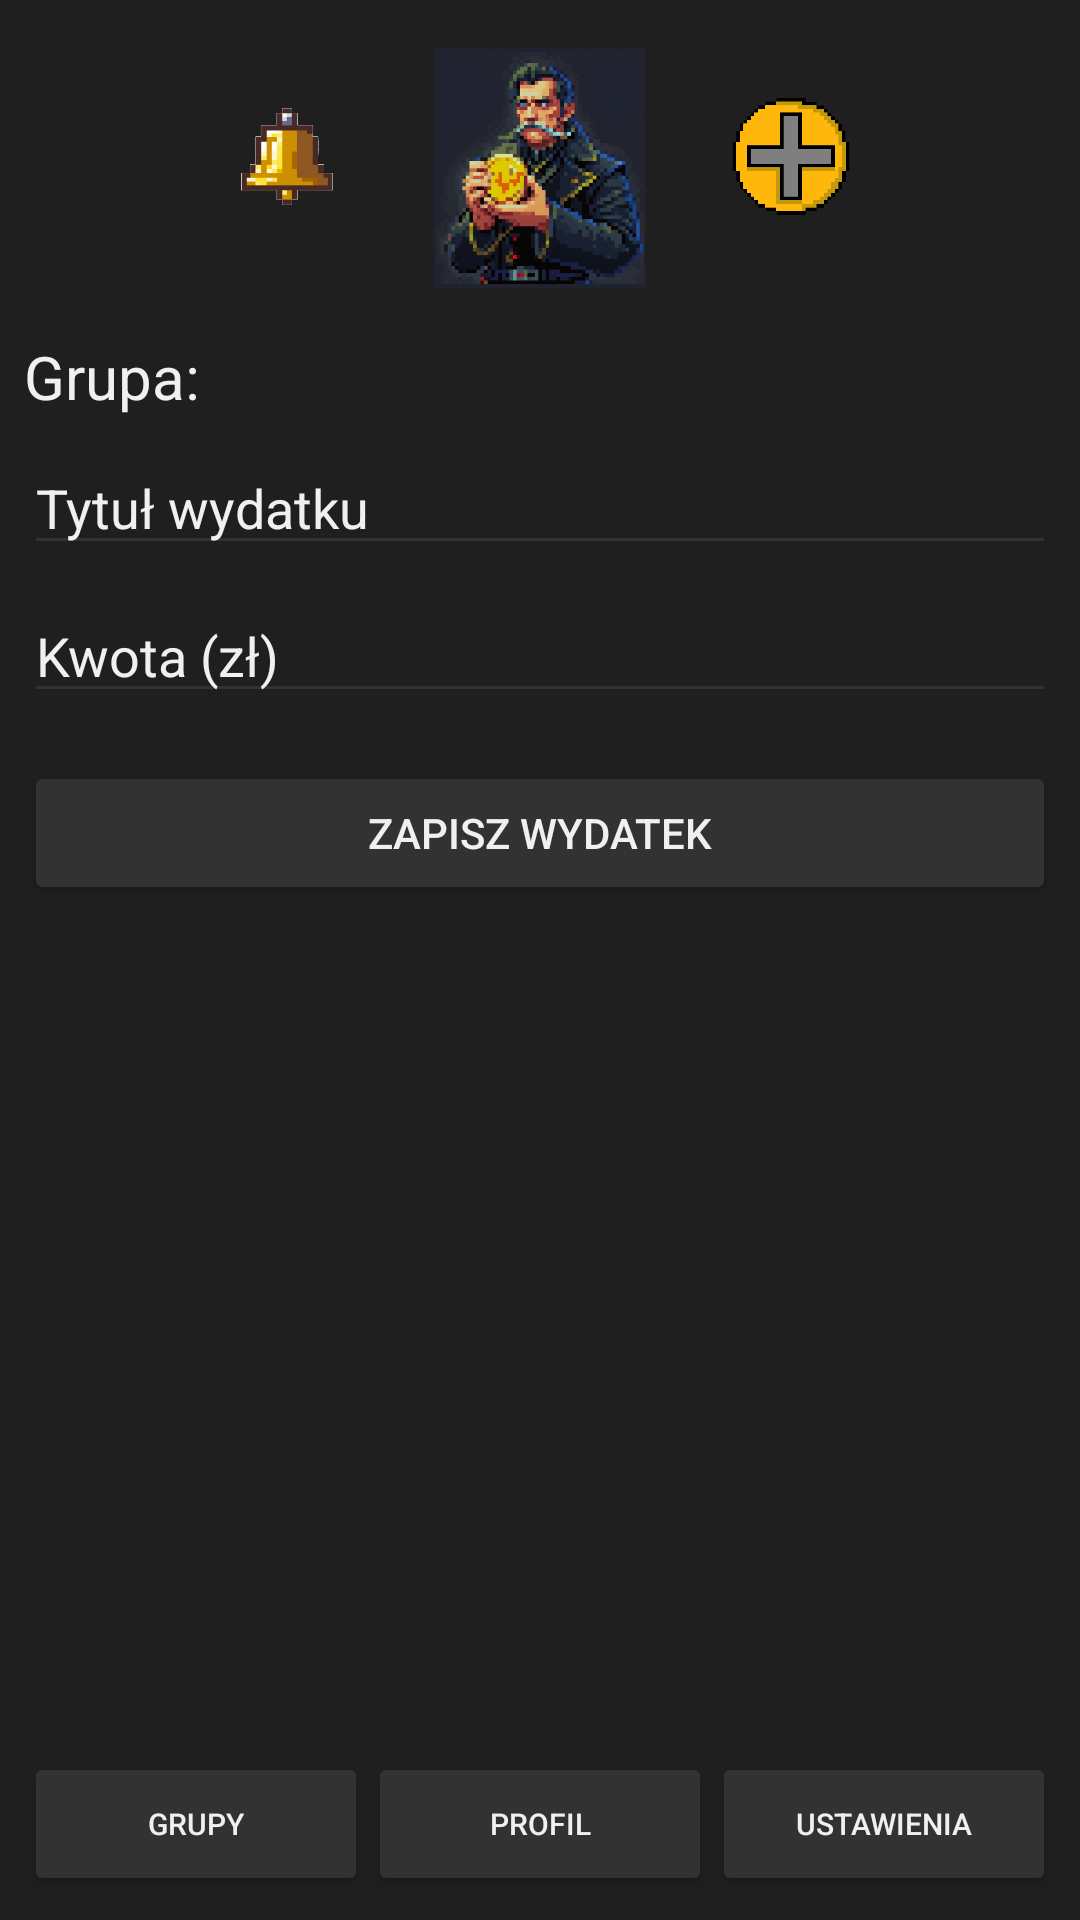

Where to tap for icons on this 1080 x 1920 app screen, as point (x, y):
Notifications Icon: point (287, 156)
plus: point (791, 156)
